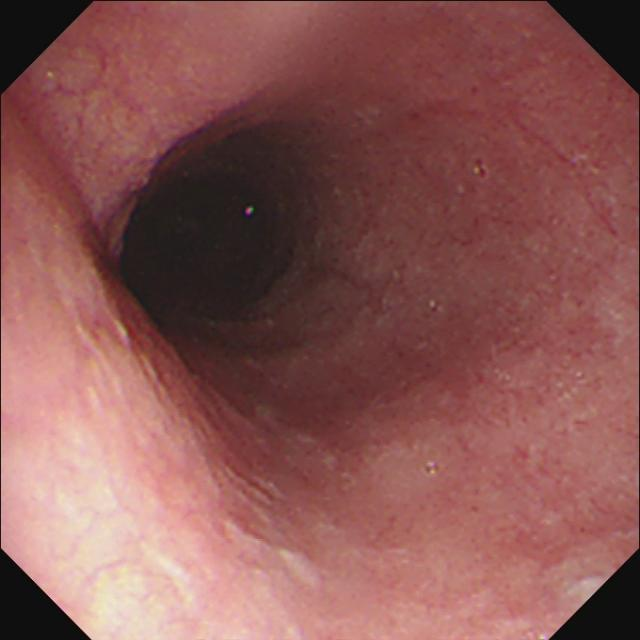E: (89, 120, 331, 351)
